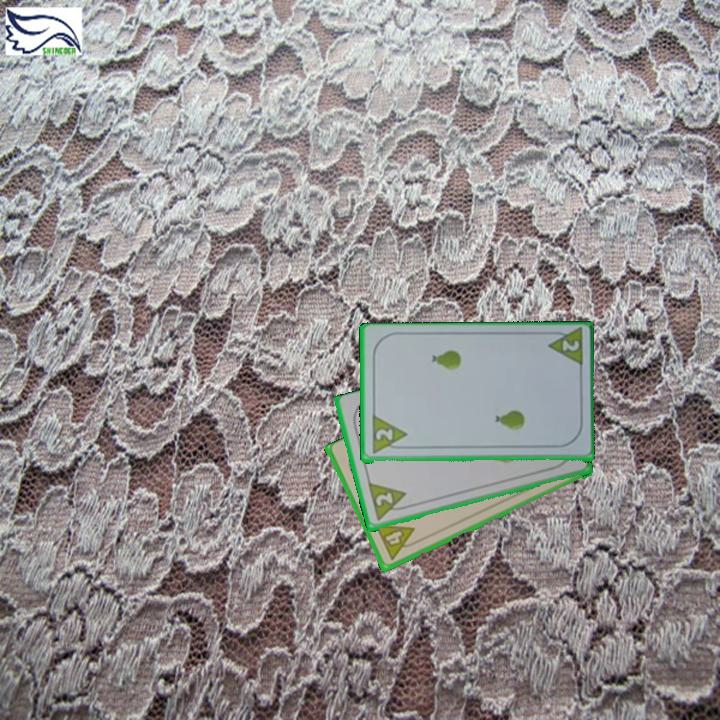2p: (364, 480, 412, 524), (543, 327, 585, 371), (372, 426, 395, 445)
4p: (372, 521, 422, 564)
